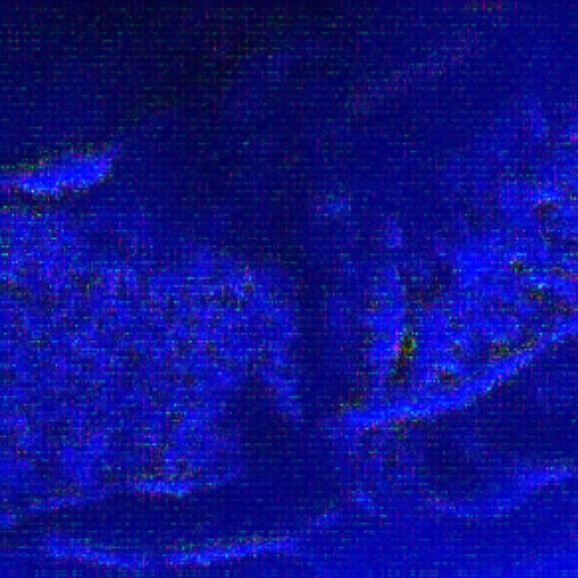rip_current: (176, 166, 445, 493)
